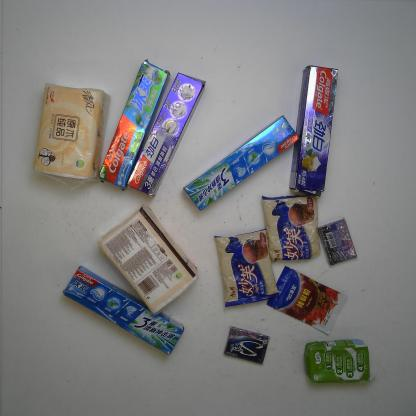Dessert: (213, 228, 280, 307), (261, 194, 322, 263)
Gum: (316, 218, 358, 265), (223, 326, 271, 365)
Milk: (303, 339, 372, 384)
Personal Hygiene: (182, 115, 300, 212), (62, 265, 185, 357), (126, 71, 206, 199), (97, 58, 171, 190), (289, 65, 339, 193)
Seasoner: (267, 266, 349, 335)
Tissue: (95, 203, 197, 315), (34, 83, 112, 180)
